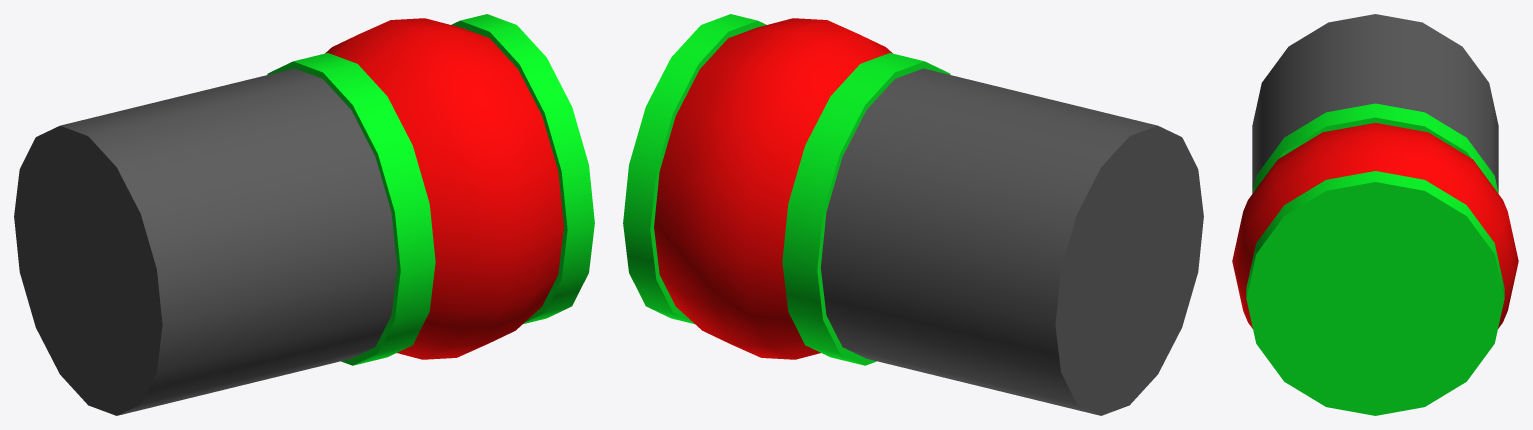
The model's file is PipeJoint.fbx.
3 renders of one model, left to right at view 1: azimuth 30°, elevation 25°; view 2: azimuth 150°, elevation 25°; view 3: azimuth 270°, elevation 25°, orthographic. The views are drawn at different scales.
Visible parts, largest first — view 1: Joint; view 2: Joint; view 3: Joint.
Boxes of the visible parts, x1=… form: Joint: x1=14, y1=14, x2=594, y2=415; Joint: x1=623, y1=14, x2=1203, y2=415; Joint: x1=1232, y1=14, x2=1518, y2=415.
Bounding box in the file's own units: 19.69 × 13.74 × 13.74.
